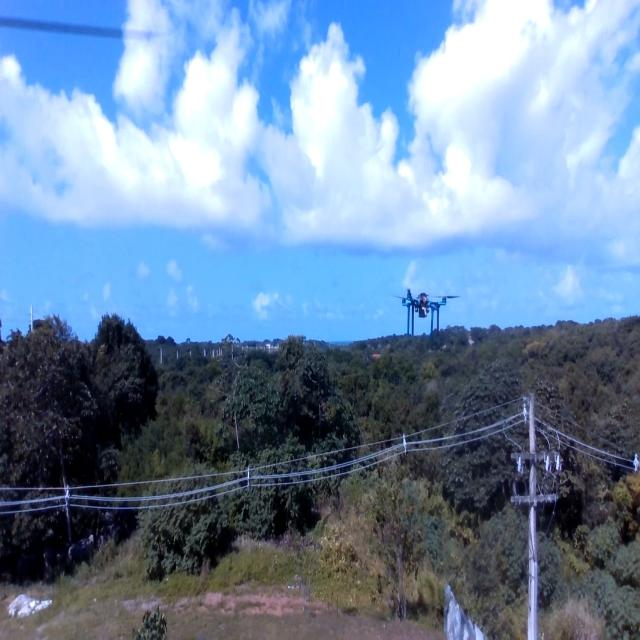-uav-: (390, 272, 460, 346)
